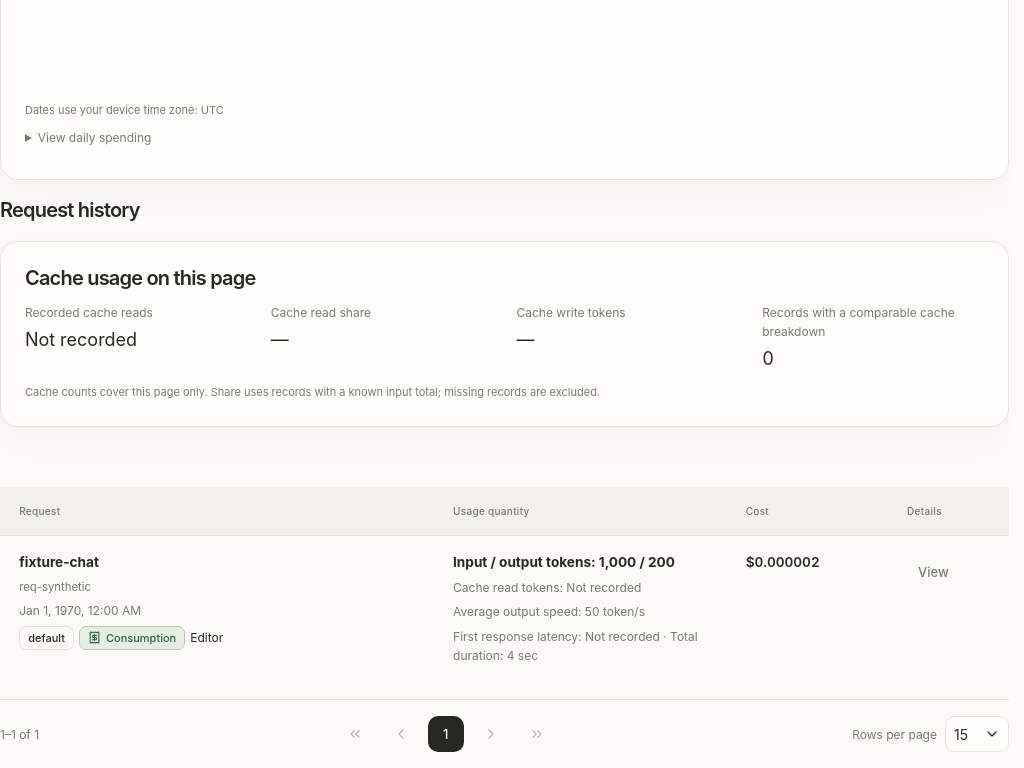
Scenario: labels consumption records explicitly in the list and details
This screenshot has width=1024, height=768.
(page scrolled)
Expected: the text "Consumption" is shown, [79, 626, 185, 650]
Click the button "View".
click(933, 572)  # box [907, 552, 960, 594]
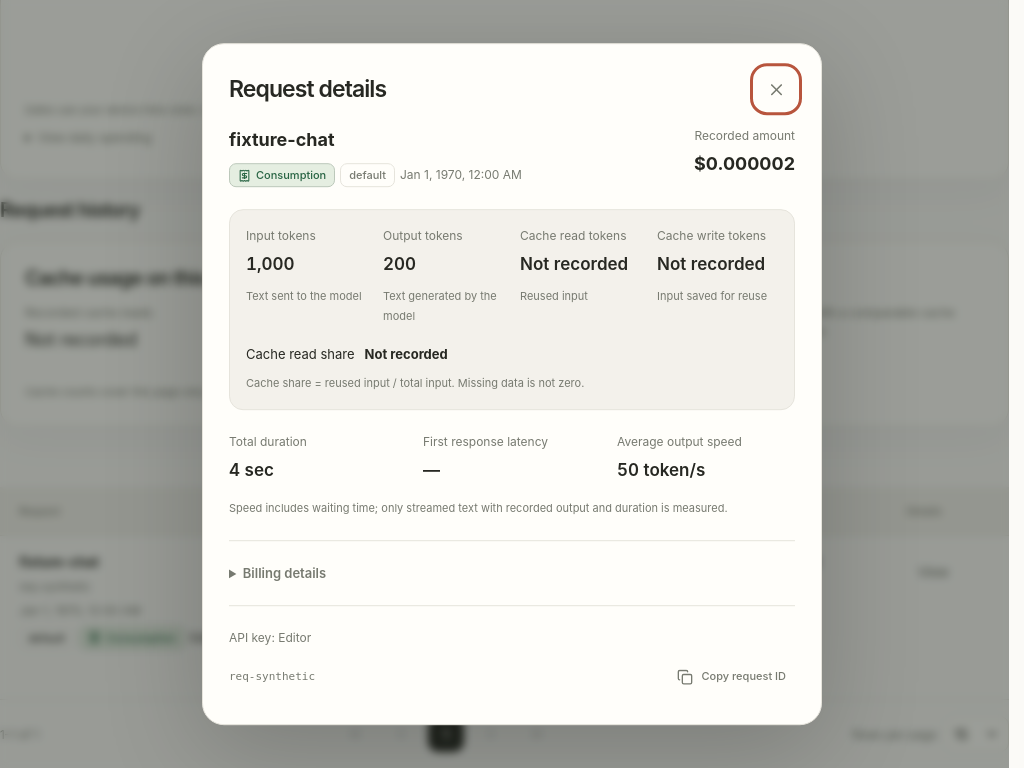
Expected: the text "Consumption" is shown, [229, 163, 335, 188]
